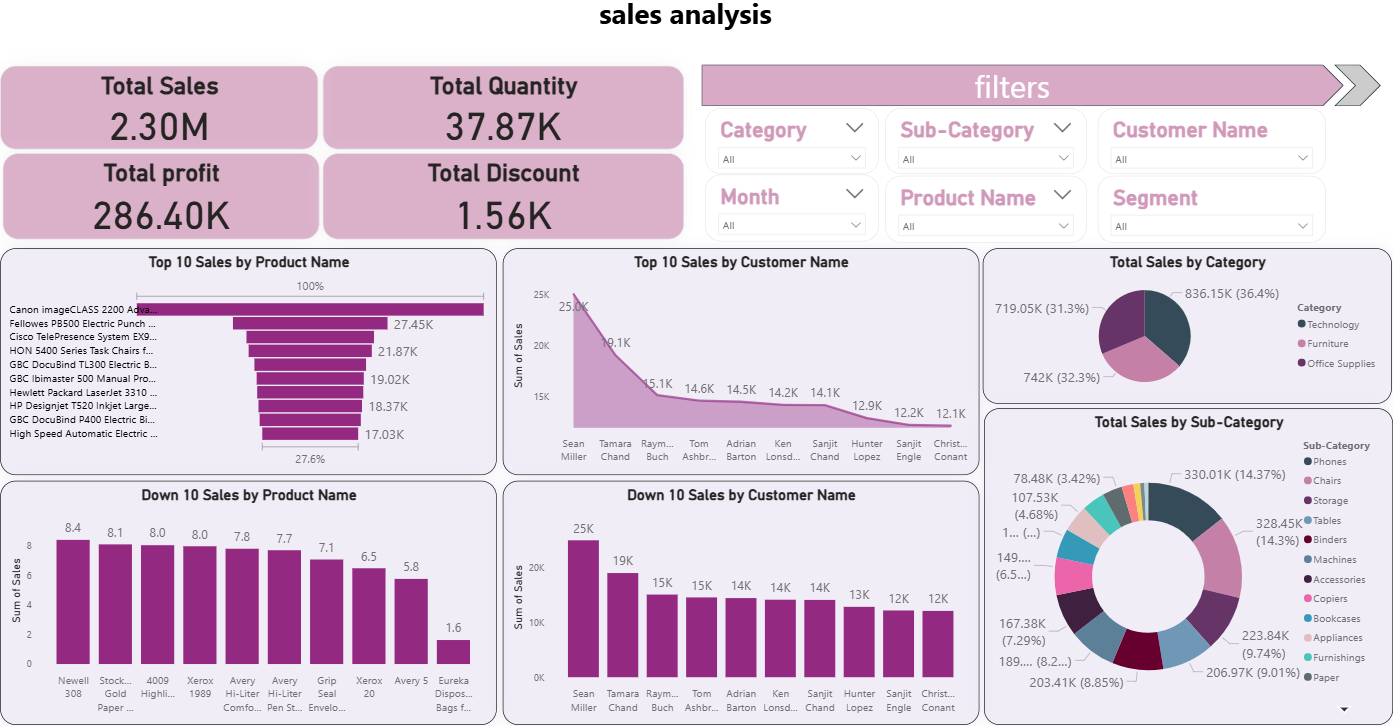

This screenshot's page, from the dashboard's own definition file:
{"tool":"powerbi","page":{"name":"Sales Overview","canvas":[1800,950],"ordinal":1},"visuals":[{"type":"card","title":"Total Quantity","fields":{"Values":["Orders.total Discount"]},"box":[418.5,94.6,466,107.9],"z":0},{"type":"card","title":"Total Sales","fields":{"Values":["Orders.total sales"]},"box":[2.4,94.6,410.4,107.9],"z":1000},{"type":"card","title":"Total profit","fields":{"Values":["Orders.total Profit"]},"box":[4,207.5,408.8,111.2],"z":2000},{"type":"card","title":"Total Discount","fields":{"Values":["Orders.total Discount"]},"box":[418.5,207.5,466,111.2],"z":3000},{"type":"funnel","title":"Top 10 Sales by Product Name","fields":{"Category":["Orders.Product Name"],"Y":["Sum(Orders.Sales)"]},"box":[1.6,330.3,641,292.7],"z":4000},{"type":"clusteredColumnChart","title":"Down  10 Sales by Product Name","fields":{"Y":["Sum(Orders.Sales)"],"Category":["Orders.Product Name"]},"box":[1.6,631.2,641,315.6],"z":5000},{"type":"areaChart","title":"Top 10 Sales by Customer Name","fields":{"Category":["Orders.Customer Name"],"Y":["Sum(Orders.Sales)"]},"box":[650.8,330.3,614.8,292.7],"z":6000},{"type":"clusteredColumnChart","title":"Down 10 Sales by Customer Name","fields":{"Y":["Sum(Orders.Sales)"],"Category":["Orders.Customer Name"]},"box":[650.8,631.2,614.8,315.6],"z":7000},{"type":"pieChart","title":"Total Sales by Category","fields":{"Category":["Orders.Category"],"Y":["Sum(Orders.Sales)"]},"box":[1270.5,330.3,528.2,201.1],"z":8000},{"type":"donutChart","title":"Total  Sales by Sub-Category","fields":{"Category":["Orders.Sub-Category"],"Y":["Sum(Orders.Sales)"]},"box":[1272.2,538,528.2,408.8],"z":9000},{"type":"shape","box":[907.4,92.9,829,54],"z":10000},{"type":"shape","box":[1723,92.9,60.5,54],"z":11000},{"type":"slicer","fields":{"Values":["Orders.Category"]},"box":[911,150.2,224,85],"z":12000},{"type":"slicer","fields":{"Values":["Orders.Sub-Category"]},"box":[1143.8,150.1,260,85],"z":13000},{"type":"slicer","fields":{"Values":["Orders.Customer Name"]},"box":[1418.6,150.1,294.3,85],"z":14000},{"type":"slicer","fields":{"Values":["Orders$FilterDatabase.Product Name"]},"box":[1143.2,236.9,260,86.7],"z":15000},{"type":"slicer","fields":{"Values":["Orders.Order Date.Variation.Date Hierarchy.Month"]},"box":[911,235.2,224,86.7],"z":16000},{"type":"slicer","fields":{"Values":["Orders.Segment"]},"box":[1417.9,236.9,294.3,86.7],"z":17000},{"type":"shape","box":[443.1,0,884.6,50.7],"z":18000}]}

Visuals, with their boxes in screenshot pixels (x1, y1, x2, y2), scaled from the page's 1800x950 canvas onto the 1393x726 screenshot:
"Total Quantity" card: rect(324, 72, 685, 155)
"Total Sales" card: rect(2, 72, 319, 155)
"Total profit" card: rect(3, 159, 319, 244)
"Total Discount" card: rect(324, 159, 685, 244)
"Top 10 Sales by Product Name" funnel: rect(1, 252, 497, 476)
"Down  10 Sales by Product Name" clusteredColumnChart: rect(1, 482, 497, 724)
"Top 10 Sales by Customer Name" areaChart: rect(504, 252, 979, 476)
"Down 10 Sales by Customer Name" clusteredColumnChart: rect(504, 482, 979, 724)
"Total Sales by Category" pieChart: rect(983, 252, 1392, 406)
"Total  Sales by Sub-Category" donutChart: rect(985, 411, 1392, 724)
shape: rect(702, 71, 1344, 112)
shape: rect(1333, 71, 1380, 112)
slicer - Orders.Category: rect(705, 115, 878, 180)
slicer - Orders.Sub-Category: rect(885, 115, 1086, 180)
slicer - Orders.Customer Name: rect(1098, 115, 1326, 180)
slicer - Orders$FilterDatabase.Product Name: rect(885, 181, 1086, 247)
slicer - Orders.Order Date.Variation.Date Hierarchy.Month: rect(705, 180, 878, 246)
slicer - Orders.Segment: rect(1097, 181, 1325, 247)
shape: rect(343, 0, 1027, 39)
